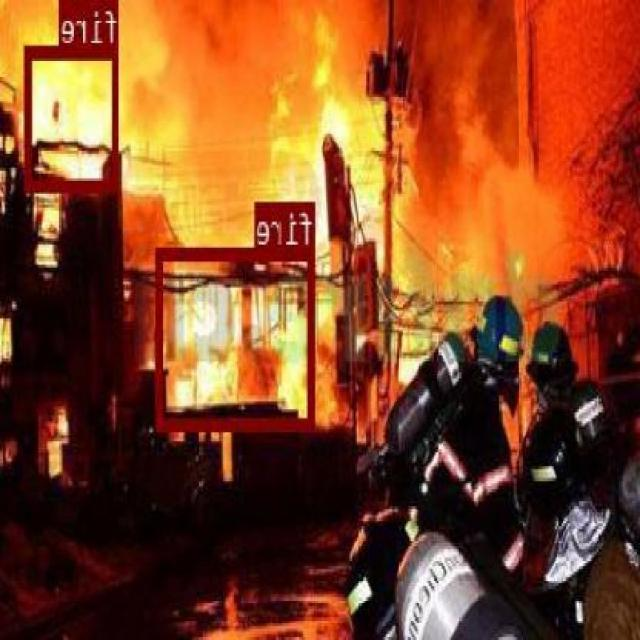Fire: (130, 242, 320, 458), (12, 7, 158, 184), (268, 20, 375, 215)
Smoke: (108, 0, 555, 237)
